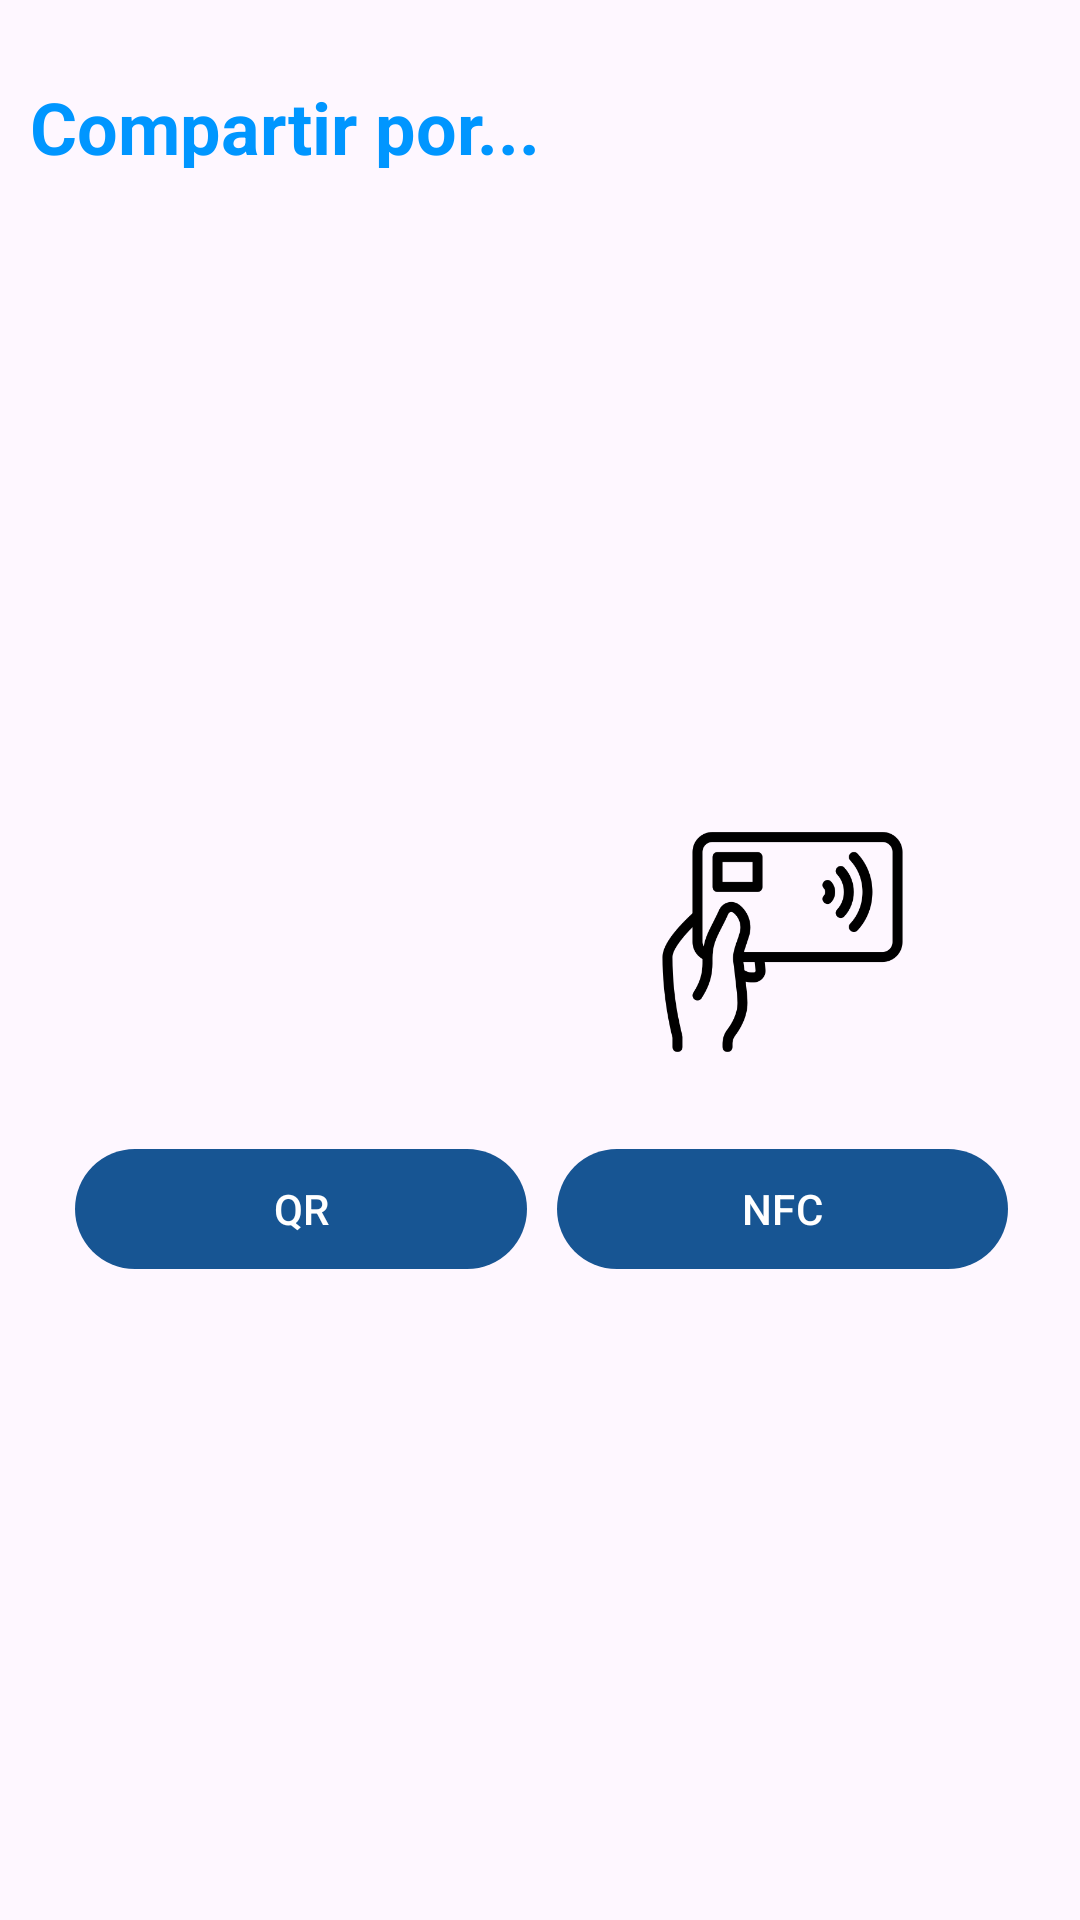

Point at icon controls on the screen. Image size 1080px×1920px, points as (x,y).
nfc card: (782,942)
